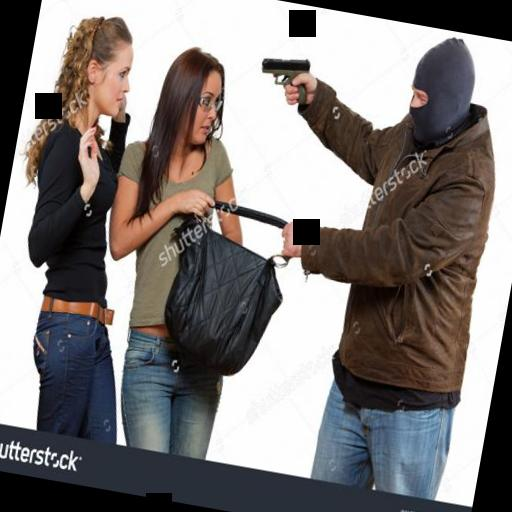Handgun: (252, 48, 316, 102)
